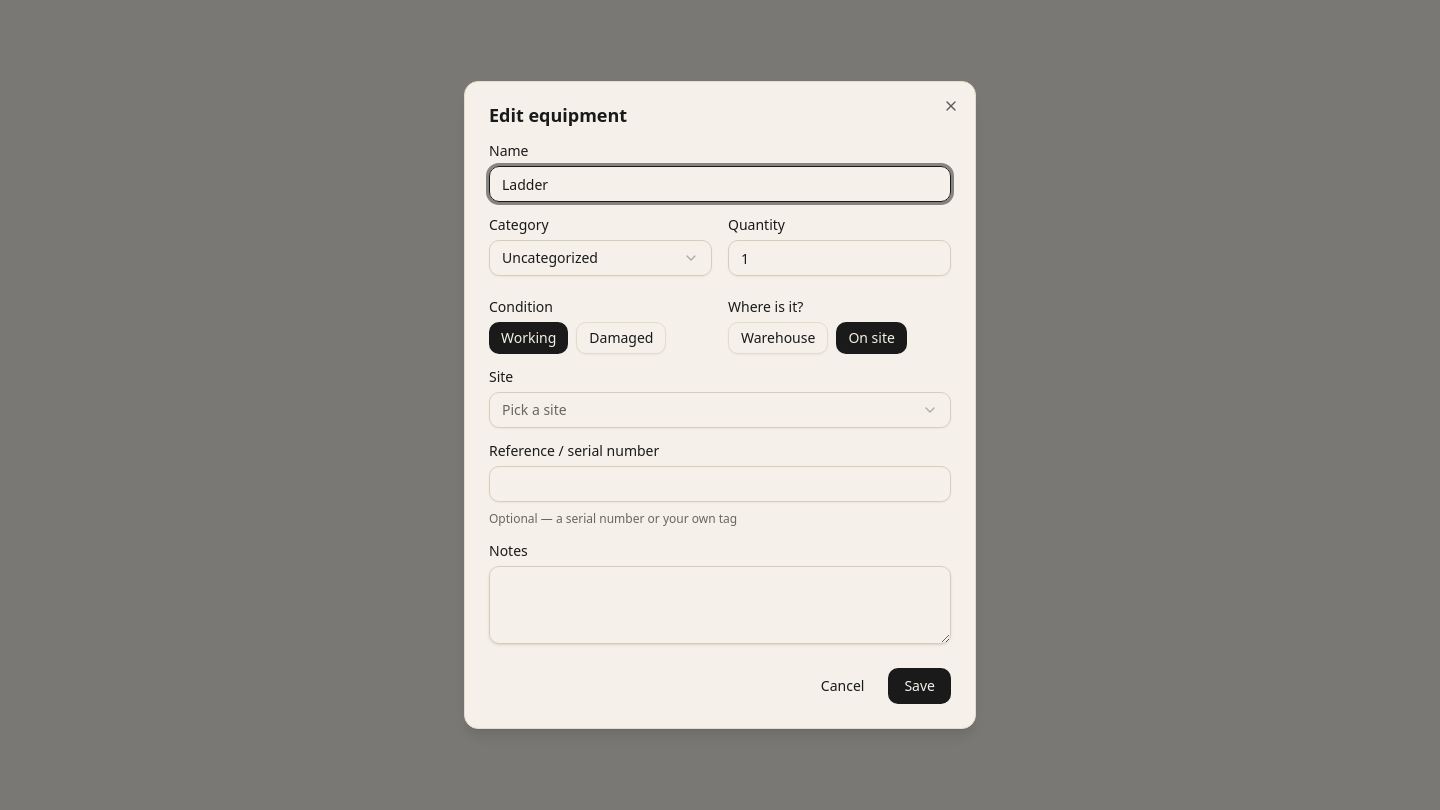
InventoryItemDialog › asks for a site instead of moving a row whose project was deleted
Replace the text in the field labelled "Name" with "Ladder renamed" at (720, 184), box [489,166,951,202]
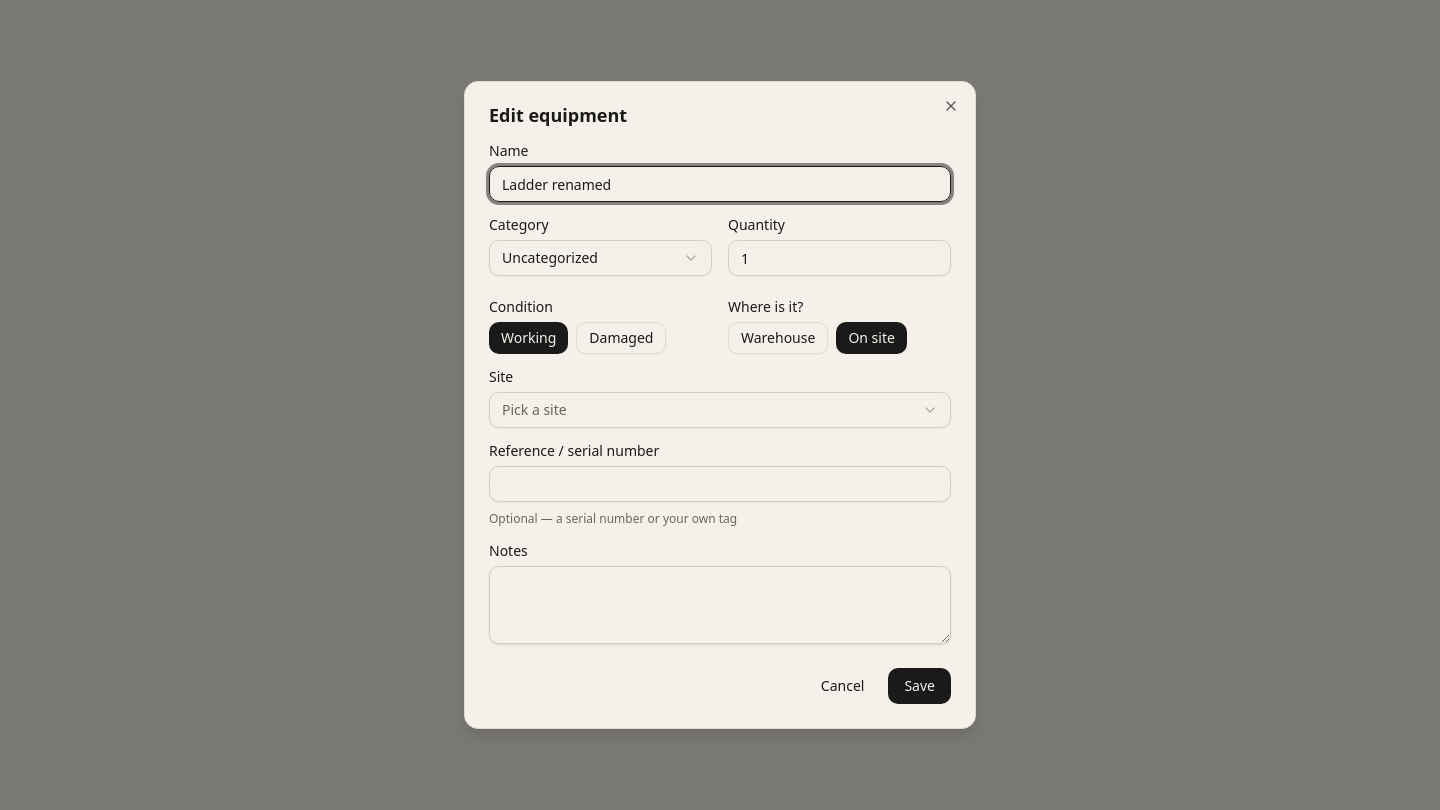
Click the button "Save" at (920, 686), box [888,668,951,704]
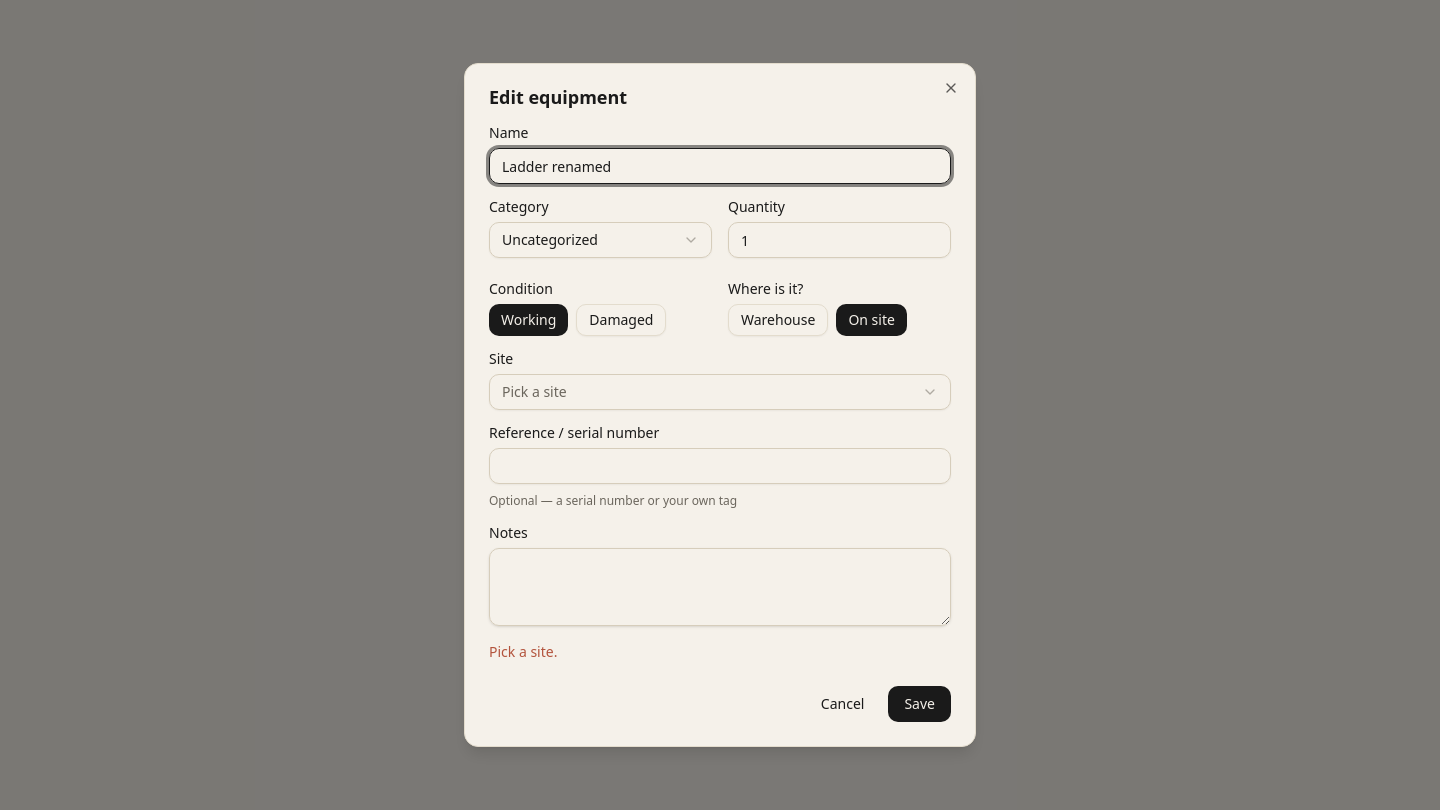
Check: the text "Pick a site." is shown, box [489,642,557,661]
